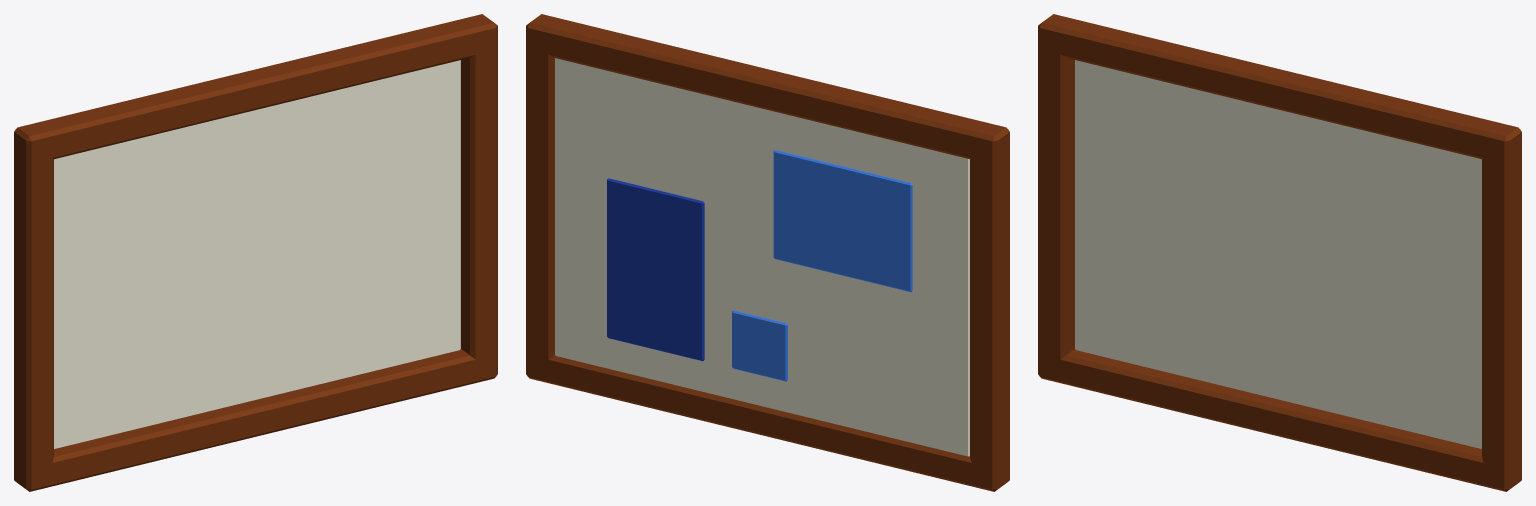
Rendered from wall-art.glb.
3 renders of one model, left to right at view 1: azimuth 30°, elevation 25°; view 2: azimuth 150°, elevation 25°; view 3: azimuth 330°, elevation 25°, orthographic.
Parts seen in each view (by area): view 1: WallArt; view 2: WallArt; view 3: WallArt.
Part boxes in pixels (left/top/right/bottom): WallArt: left=14, top=14, right=497, bottom=491; WallArt: left=526, top=14, right=1009, bottom=491; WallArt: left=1038, top=14, right=1521, bottom=491.
Bounding box in the file's own units: 0.68 × 0.49 × 0.0425.
